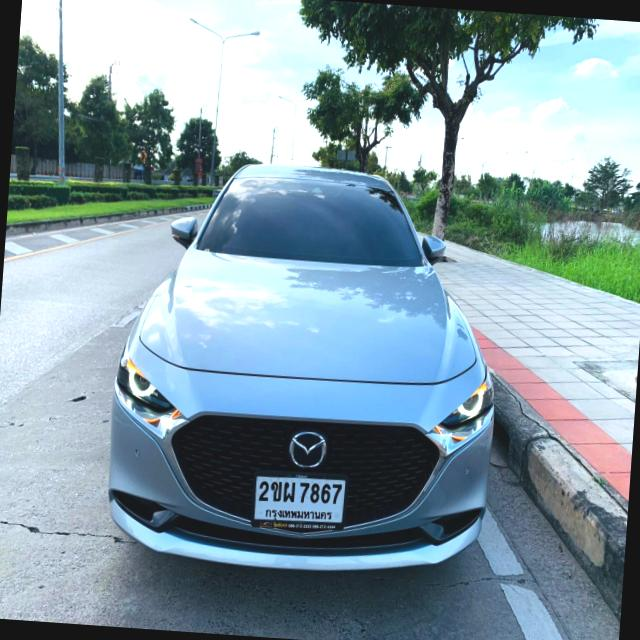license_plate: (248, 470, 347, 536)
